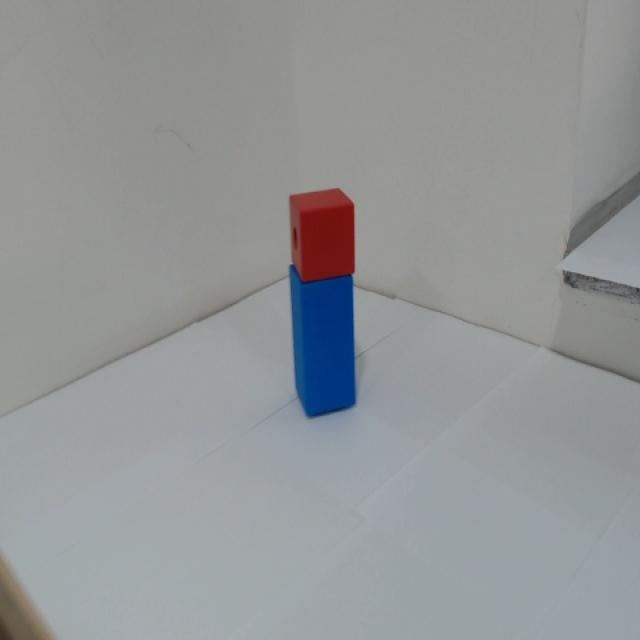cube: (276, 181, 366, 285)
